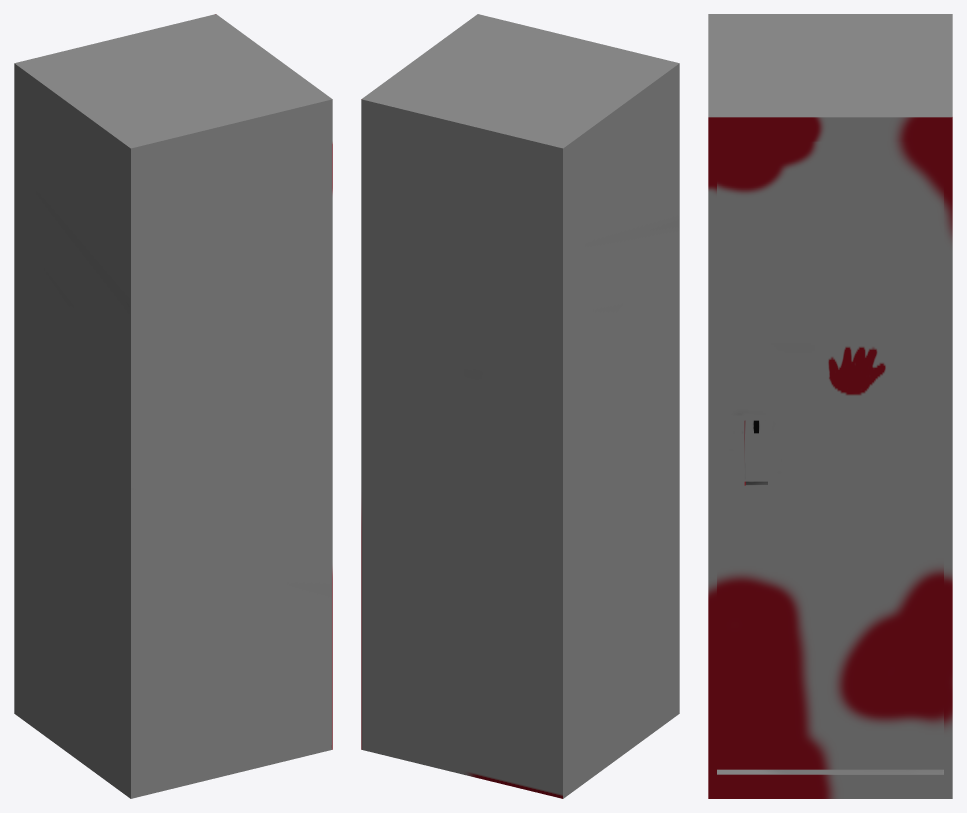
The model's file is BloodyLocker2.fbx.
The picture shows the model from 3 angles, left to right: view 1: azimuth 30°, elevation 25°; view 2: azimuth 150°, elevation 25°; view 3: azimuth 270°, elevation 25°; orthographic projection. The views are drawn at different scales.
Parts seen in each view (by area): view 1: Cube.001; view 2: Cube.001; view 3: Cube.001.
Part boxes in pixels (x1=…): Cube.001: x1=14, y1=14, x2=332, y2=798; Cube.001: x1=361, y1=14, x2=679, y2=798; Cube.001: x1=708, y1=14, x2=952, y2=798.
Size of the model in its own units: 95.7 by 295 by 95.7.
Materials: 1 (1 with a texture image).
